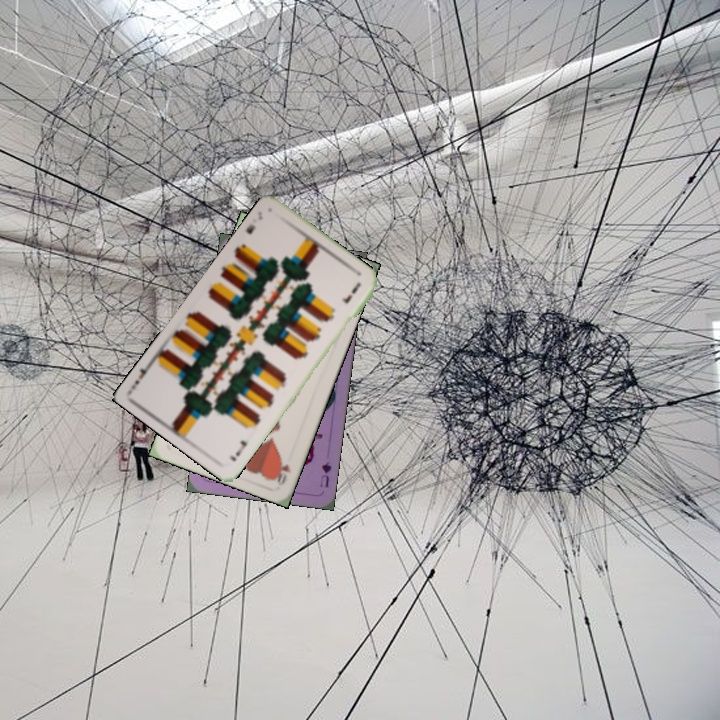E7: (242, 207, 265, 237), (225, 436, 249, 464)
GU: (315, 458, 334, 490)
HO: (271, 460, 293, 488)
